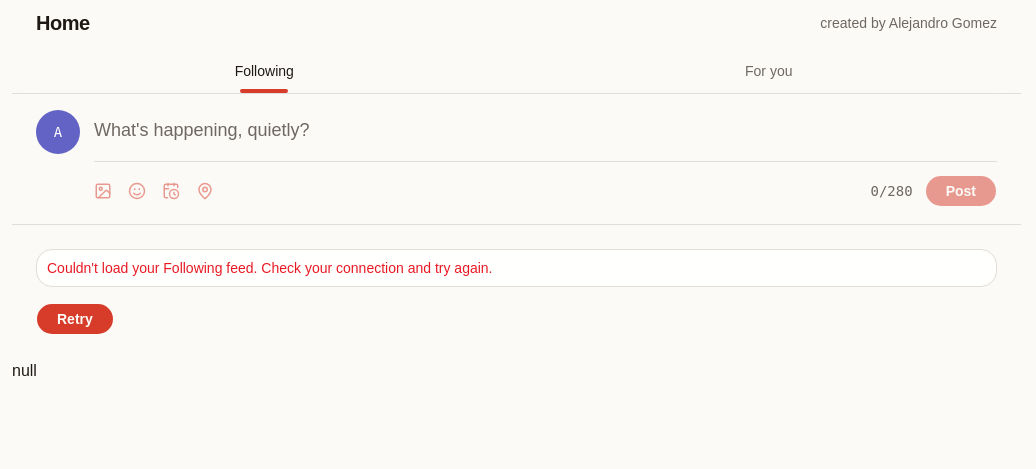
Test: Home › feed › shows an error with Retry when the first load fails, and recovers
Expected: the text "Couldn't load your Following feed" is shown, top-left (47, 260), bottom-right (492, 276)
Click the button "Retry": point(75, 319) top-left (36, 303), bottom-right (114, 335)
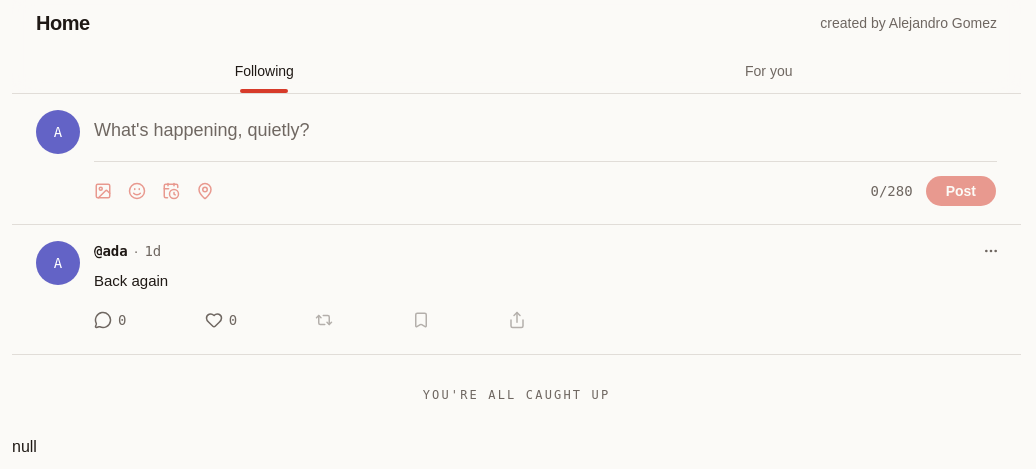
Expected: the text "Back again" is shown, top-left (94, 272), bottom-right (168, 289)
Expected: the text "Couldn't load your Following feed" is gone
